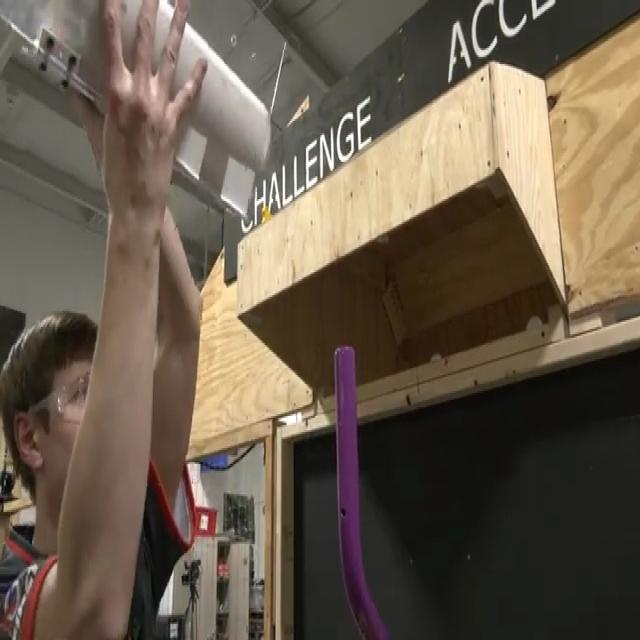Coral: (82, 0, 273, 220)
